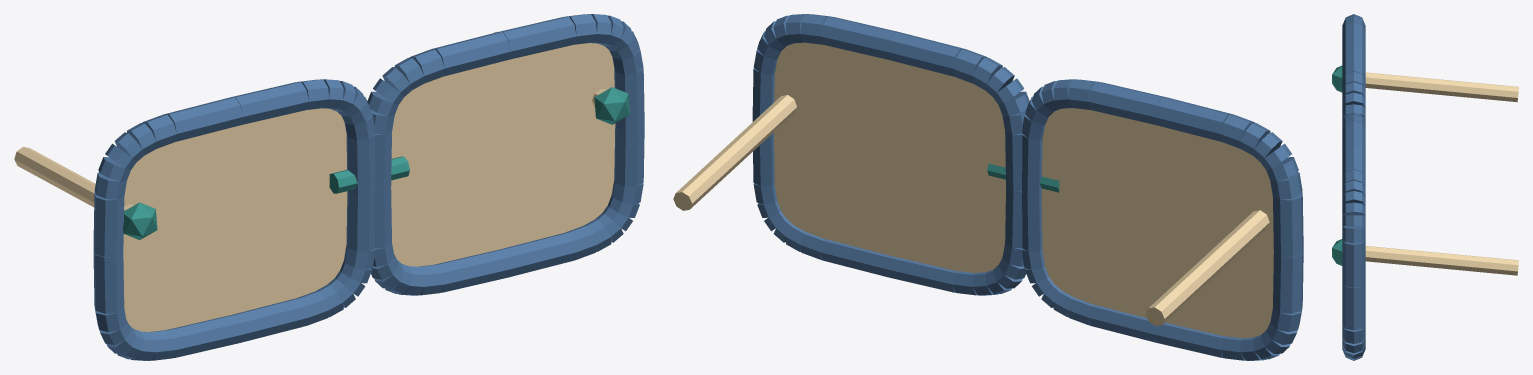
Rendered from eyewear_oversized.glb.
3 views of the same model, side by side, from view 1: azimuth 30°, elevation 25°; view 2: azimuth 150°, elevation 25°; view 3: azimuth 270°, elevation 25° (orthographic). The views are drawn at different scales.
Parts seen in each view (by area): view 1: wearable; view 2: wearable; view 3: wearable.
Part boxes in pixels (<box>): wearable: <box>14,14,644,360</box>; wearable: <box>673,14,1303,360</box>; wearable: <box>1332,14,1518,360</box>.
Bounding box in the file's own units: 0.696 × 0.298 × 0.2733.
